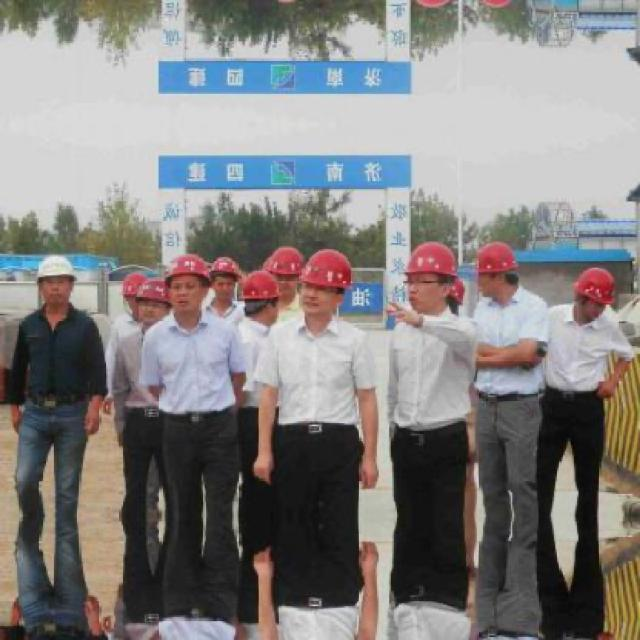con casco: (446, 239, 559, 338), (383, 232, 486, 338), (0, 230, 109, 324), (550, 246, 630, 350), (153, 234, 220, 358), (128, 243, 190, 349), (281, 249, 353, 320), (252, 243, 338, 292)
